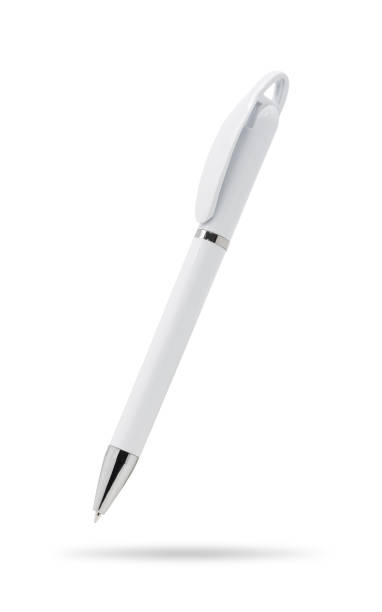pen: (77, 49, 306, 541)
